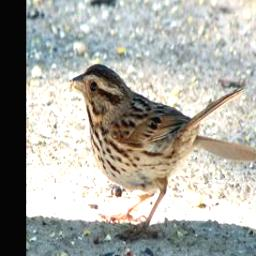Sparrow: (68, 61, 256, 243)
